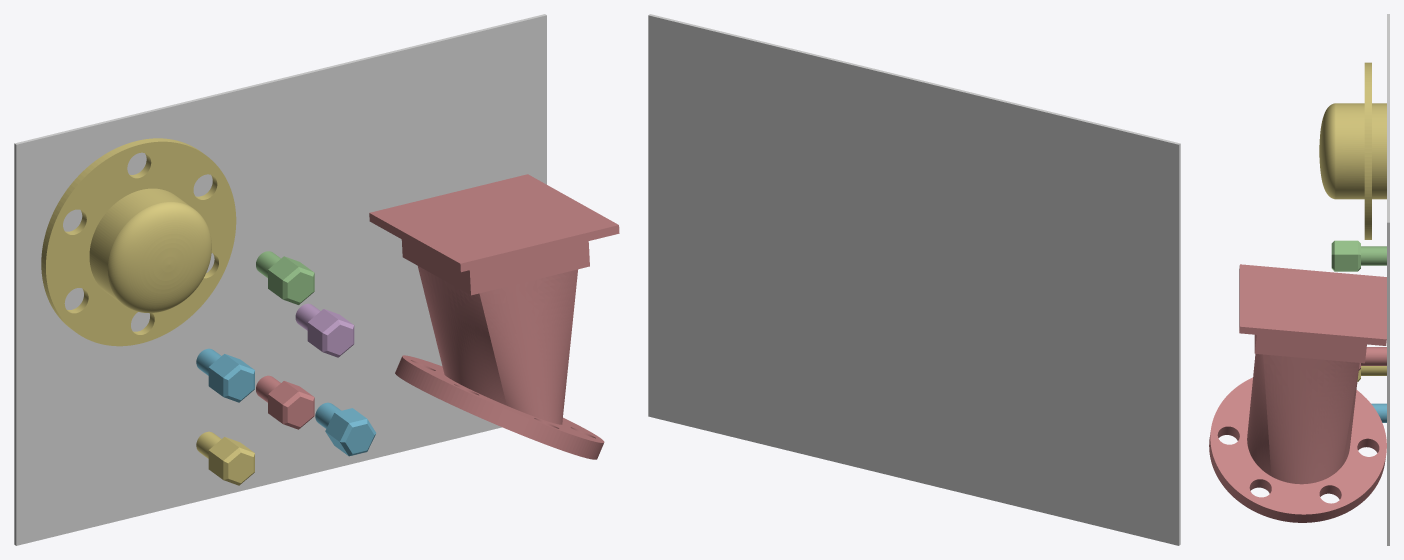
File: pickup_layout.glb
3 views of the same model, side by side, from view 1: azimuth 30°, elevation 25°; view 2: azimuth 150°, elevation 25°; view 3: azimuth 270°, elevation 25° (orthographic). The views are drawn at different scales.
Visible parts, largest first — view 1: world, 0.obj, 1.obj, 7.obj, 3.obj, 6.obj, 4.obj, 5.obj, 2.obj; view 2: world; view 3: 0.obj, 1.obj, world, 4.obj, 5.obj, 6.obj.
Boxes of the visible parts, x1=… form: world: x1=14, y1=14, x2=546, y2=545; 0.obj: x1=369, y1=174, x2=619, y2=459; 1.obj: x1=41, y1=138, x2=236, y2=346; 7.obj: x1=315, y1=402, x2=376, y2=456; 3.obj: x1=295, y1=303, x2=354, y2=357; 6.obj: x1=196, y1=431, x2=254, y2=485; 4.obj: x1=256, y1=251, x2=314, y2=304; 5.obj: x1=256, y1=375, x2=314, y2=429; 2.obj: x1=196, y1=348, x2=254, y2=402; world: x1=648, y1=14, x2=1180, y2=545; 0.obj: x1=1209, y1=264, x2=1386, y2=522; 1.obj: x1=1319, y1=62, x2=1386, y2=239; world: x1=1387, y1=14, x2=1389, y2=545; 4.obj: x1=1331, y1=240, x2=1386, y2=271; 5.obj: x1=1358, y1=347, x2=1386, y2=370; 6.obj: x1=1357, y1=366, x2=1386, y2=381.
Size of the model in its own units: 33.44 by 24.16 by 12.24.
